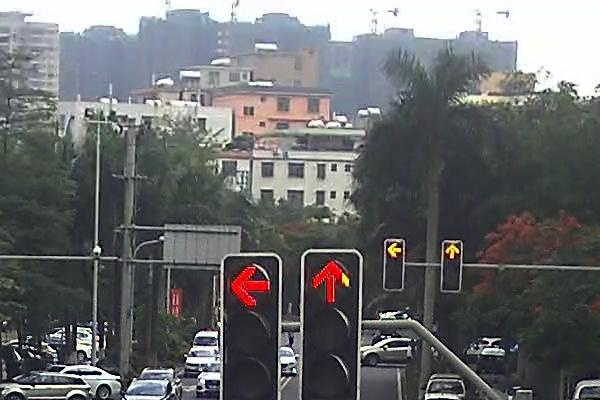redleft: (220, 256, 279, 310), (384, 240, 404, 259)
redstraight: (302, 252, 361, 304), (442, 240, 462, 261)
